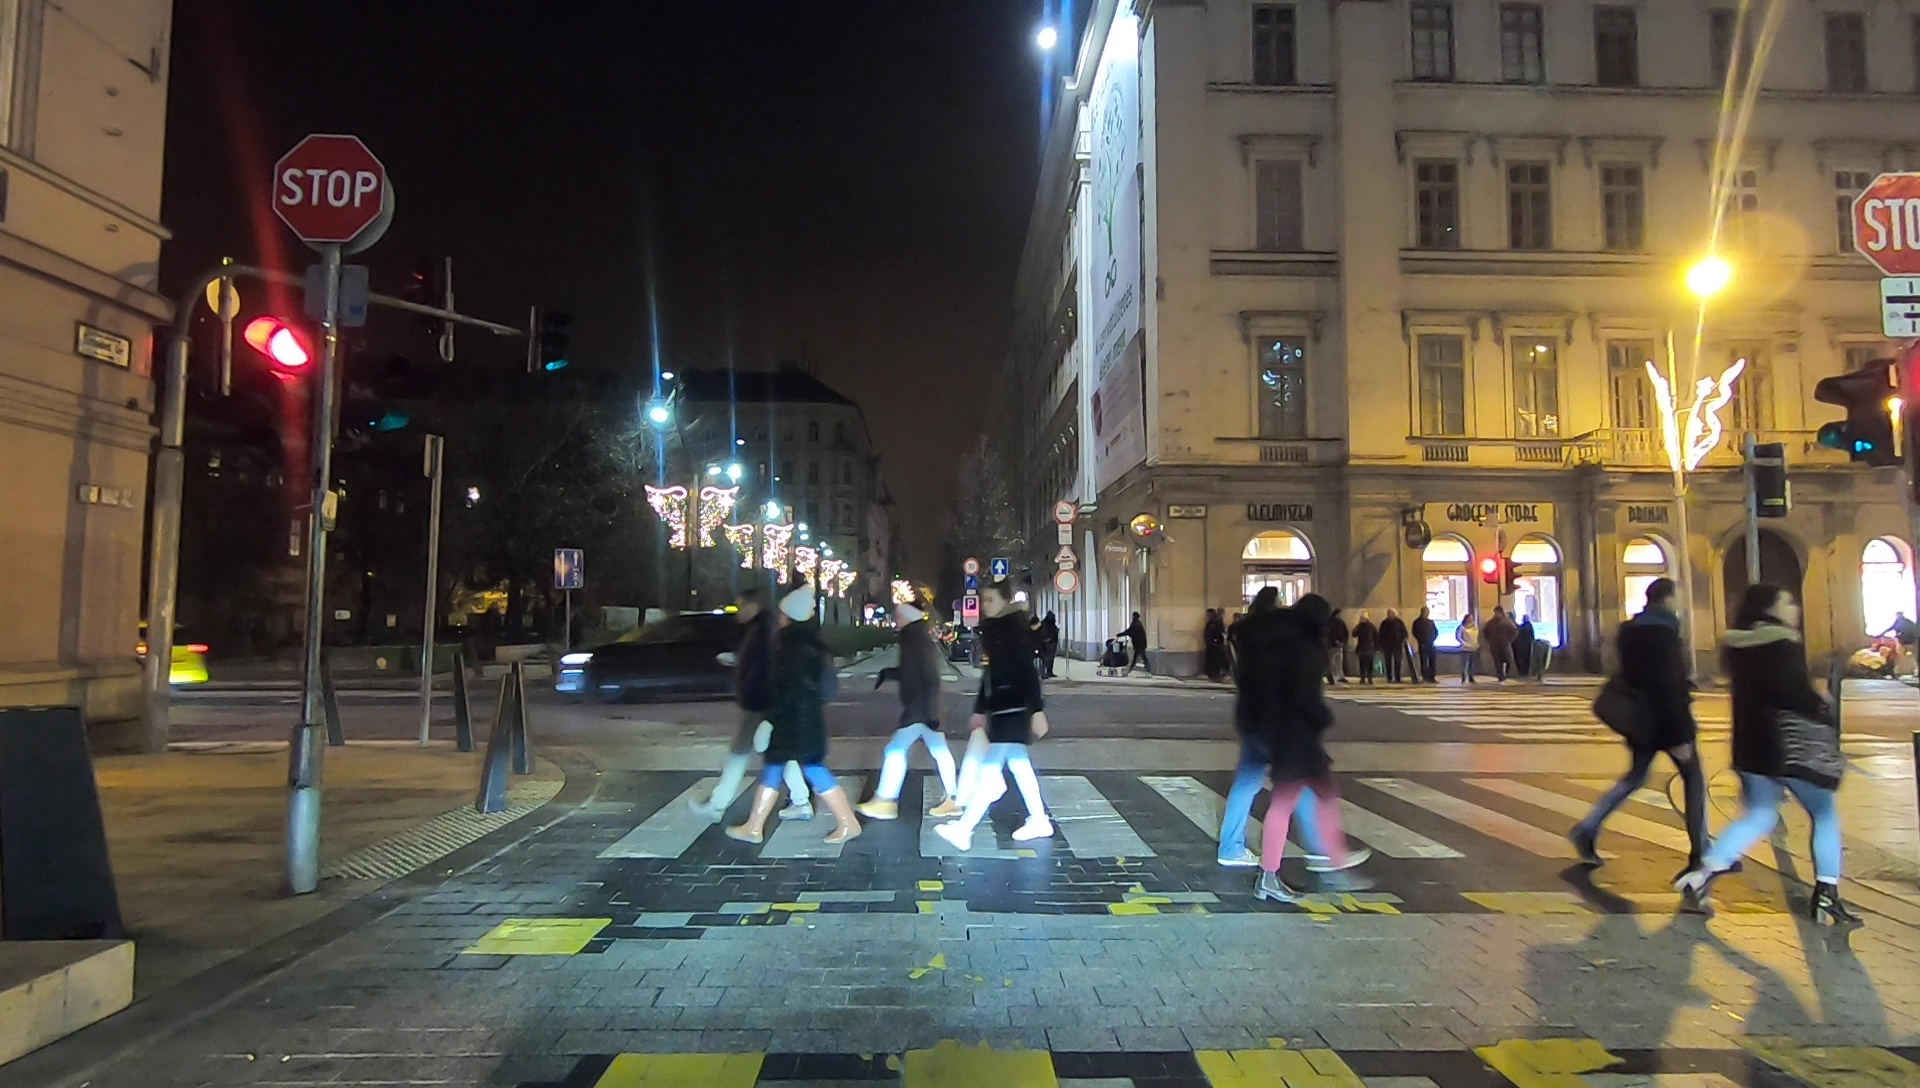person: (1714, 580, 1862, 915), (1575, 571, 1715, 873), (1219, 582, 1338, 871), (738, 584, 862, 852), (1267, 597, 1371, 899), (956, 576, 1054, 847), (871, 589, 967, 823), (715, 593, 789, 824), (1415, 602, 1443, 678), (1486, 606, 1515, 676), (1202, 604, 1232, 674), (1456, 611, 1480, 682), (1384, 606, 1408, 676), (1123, 608, 1149, 674), (1036, 611, 1062, 674), (1358, 613, 1376, 686)
